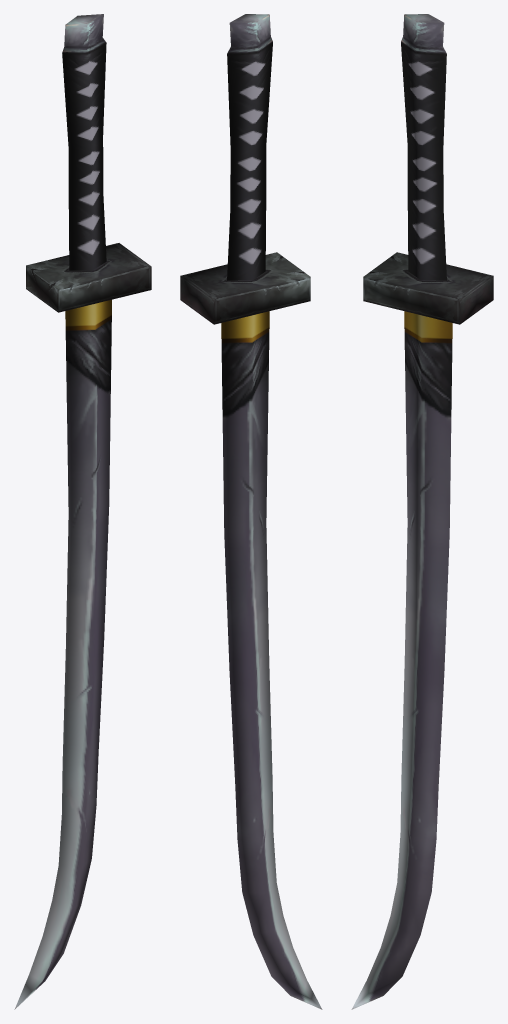
Rendered from wushidao.FBX.
3 views of the same model, side by side, from view 1: azimuth 30°, elevation 25°; view 2: azimuth 210°, elevation 25°; view 3: azimuth 330°, elevation 25° (orthographic). The views are drawn at different scales.
Visible parts, largest first — view 1: SamuraiD_W; view 2: SamuraiD_W; view 3: SamuraiD_W.
Boxes of the visible parts, x1,y1,x2,y2 form: SamuraiD_W: [14, 14, 151, 1009]; SamuraiD_W: [180, 14, 322, 1009]; SamuraiD_W: [351, 14, 493, 1009].
Bounding box in the file's own units: 25.03 × 193 × 11.63.
